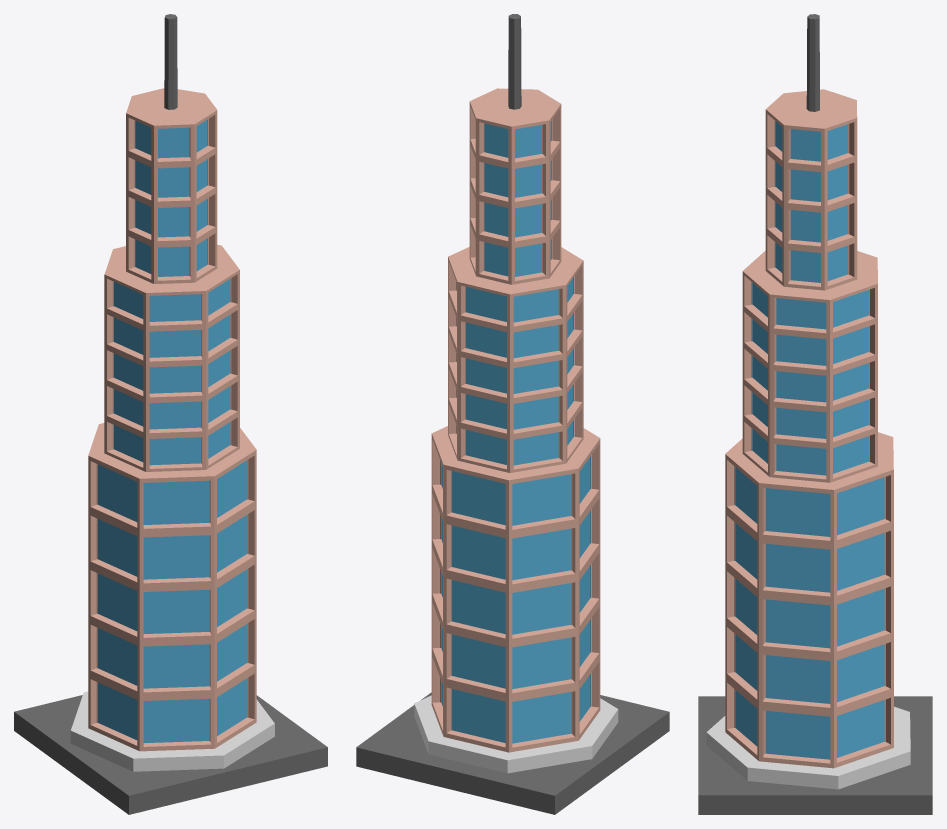
3 views of the same model, side by side, from view 1: azimuth 30°, elevation 25°; view 2: azimuth 150°, elevation 25°; view 3: azimuth 270°, elevation 25° (orthographic). The views are drawn at different scales.
Parts seen in each view (by area): view 1: Cylinder; view 2: Cylinder; view 3: Cylinder.
Boxes of the visible parts, <box> form: Cylinder: <box>14,14,327,814</box>; Cylinder: <box>356,14,669,814</box>; Cylinder: <box>698,14,932,814</box>.
Size of the model in its own units: 318 by 1119 by 318.
